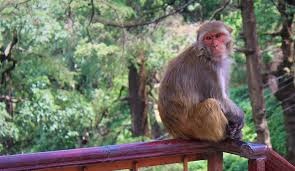monkey: (136, 16, 274, 140)
